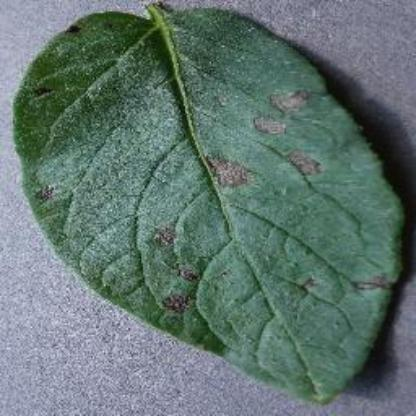Early-Blight: (15, 3, 401, 404)
